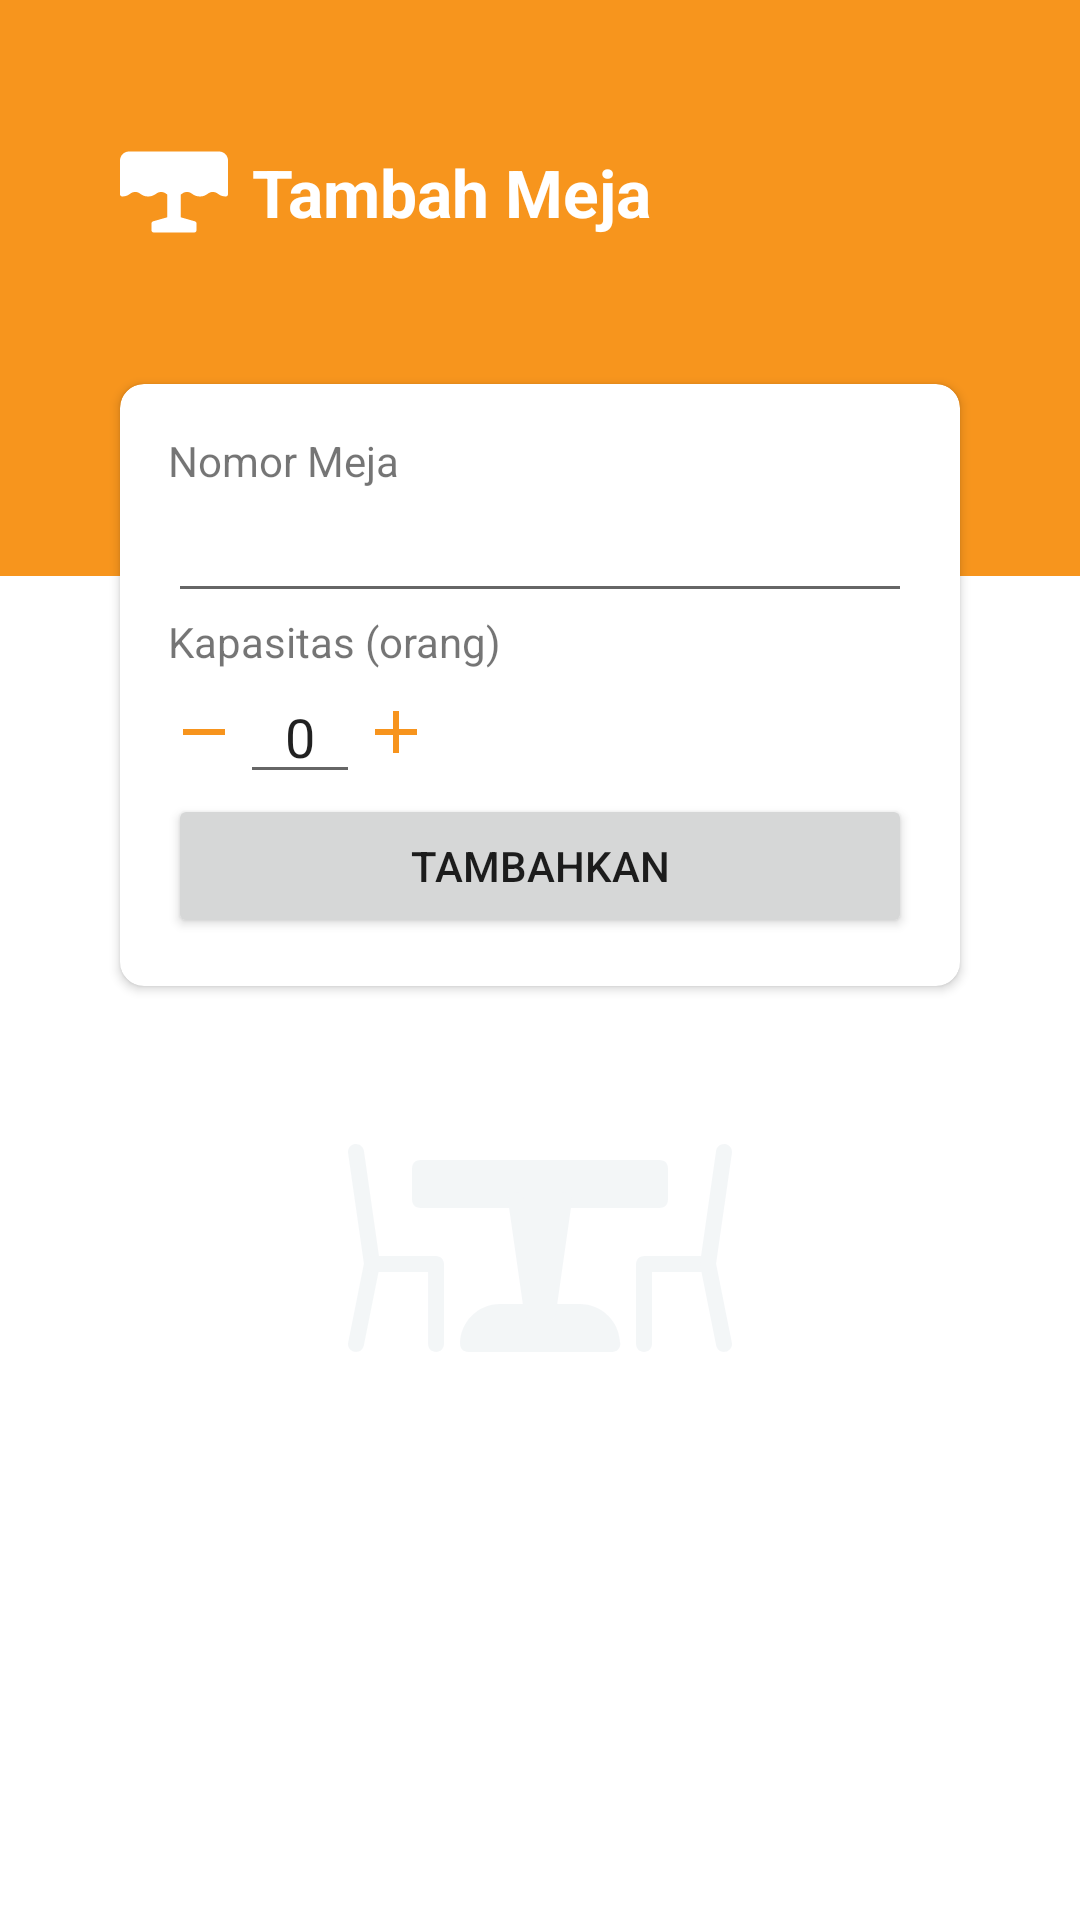

Point at icon controls on the screen. Image size 1080*1920, points as point (x, y).
item food increase: point (396, 732)
